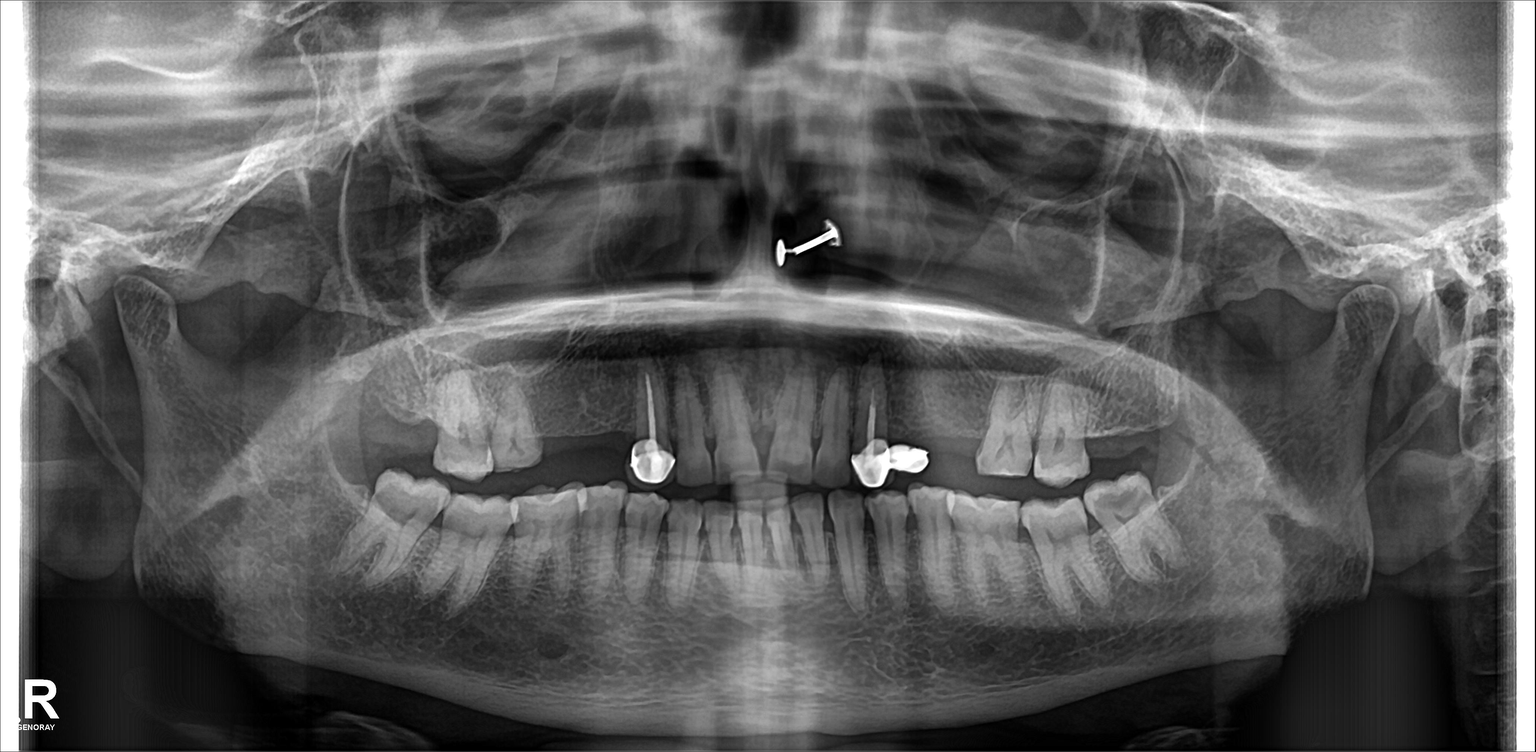Dental Caries: (1099, 490, 1141, 520)
Endodontically Treated Tooth: (845, 367, 894, 490), (626, 367, 676, 484)
Missing Tooth: (389, 370, 434, 468), (1080, 363, 1119, 471), (1125, 369, 1168, 459), (924, 380, 967, 466), (350, 374, 390, 454), (529, 387, 571, 463), (577, 389, 620, 459)
